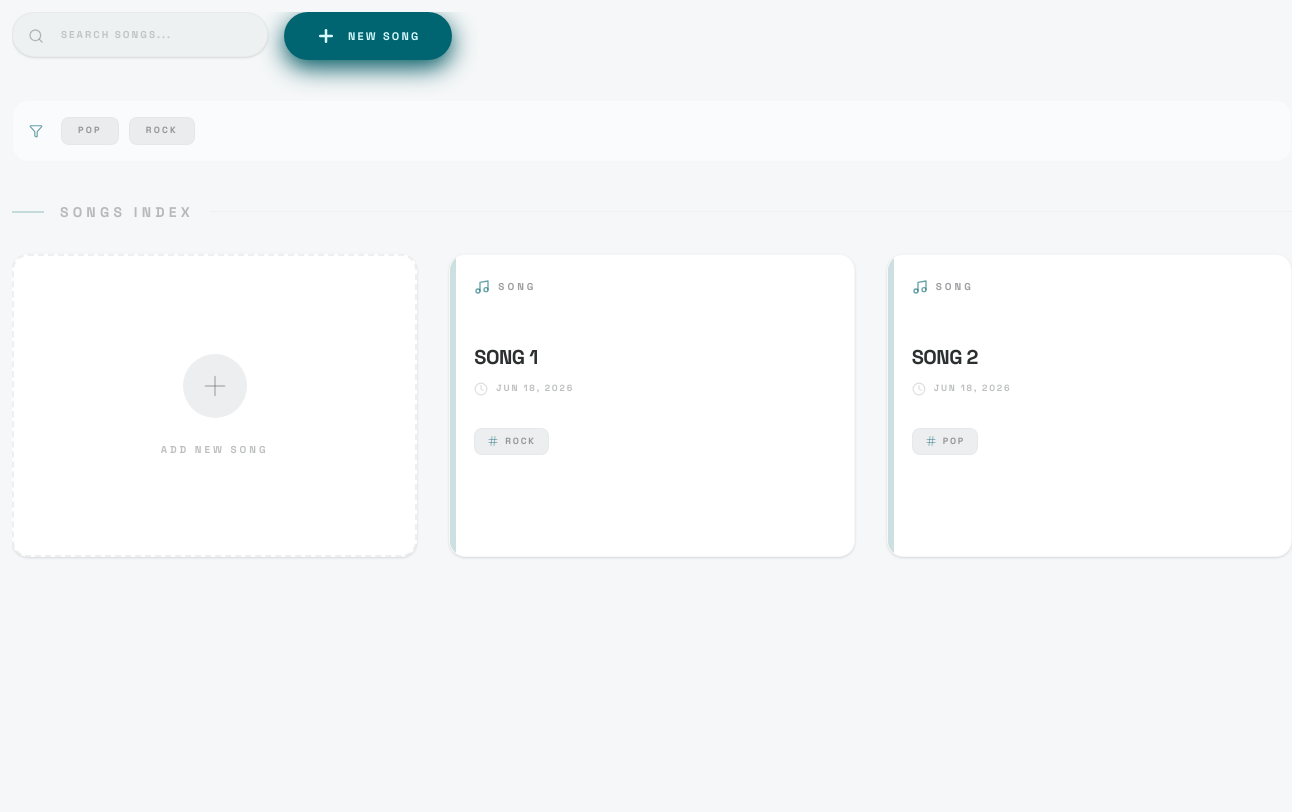
LibraryPageClient › filters items by tag
This screenshot has width=1292, height=812.
Note: Click 'rock' tag filter
Click the button with test id "tag-filter-rock". click: (162, 131)
box: [129,117,195,144]
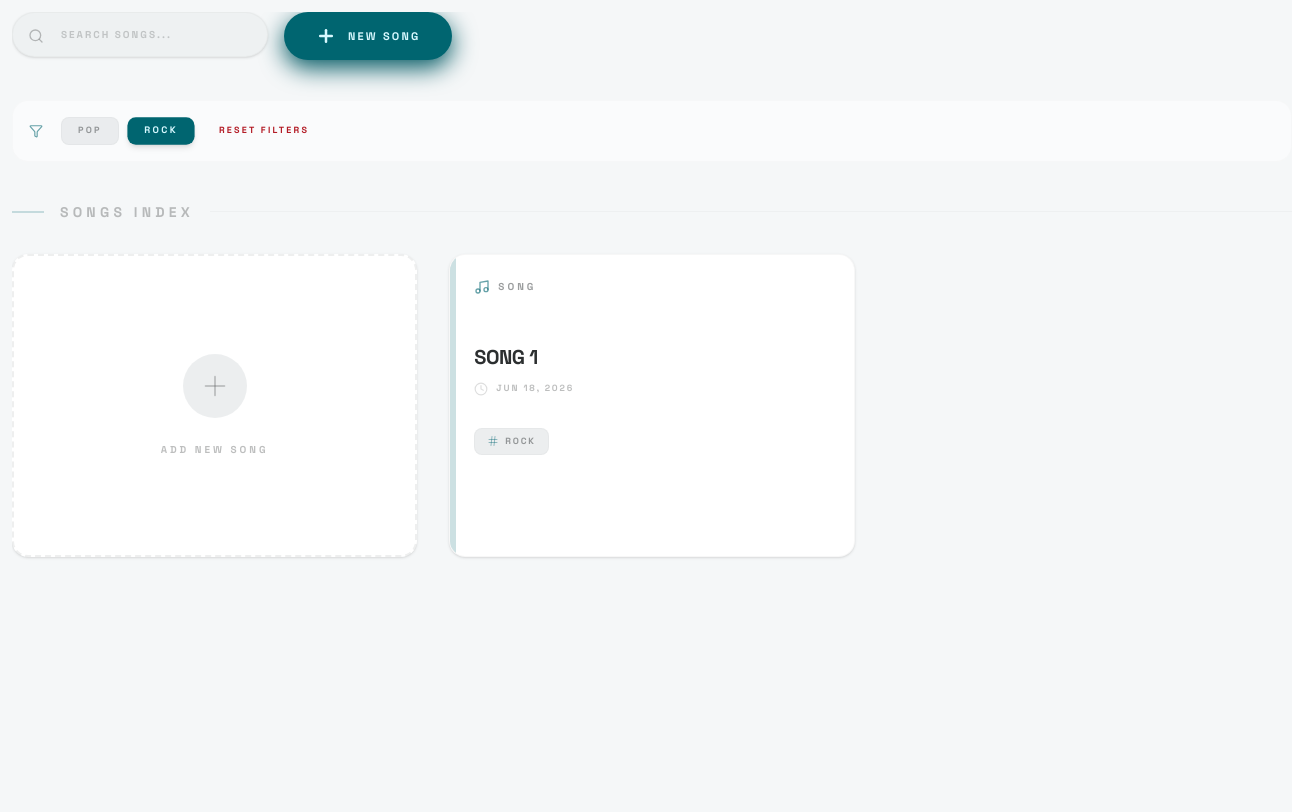
expect the heading "Song 1" is shown: met, box [474,344,538,370]
expect the heading "Song 2" is gone: met
